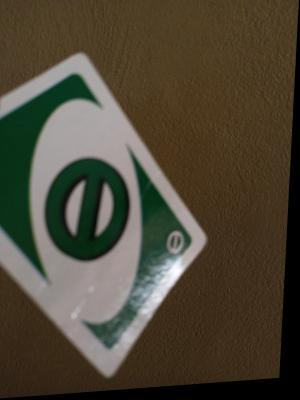green: (5, 96, 144, 274)
